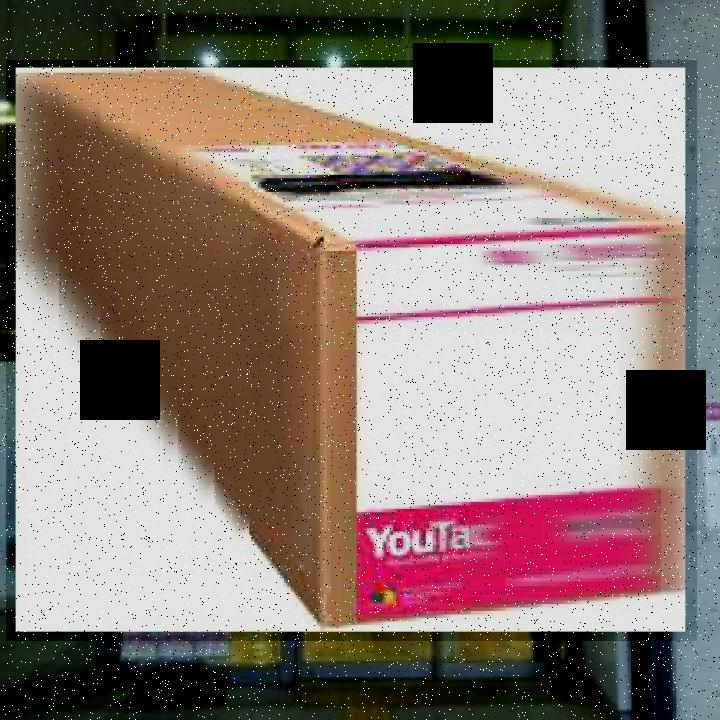box: (6, 60, 697, 641)
